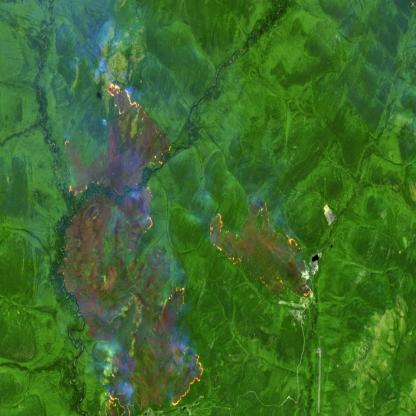fire: (45, 79, 206, 416), (210, 178, 318, 309)
